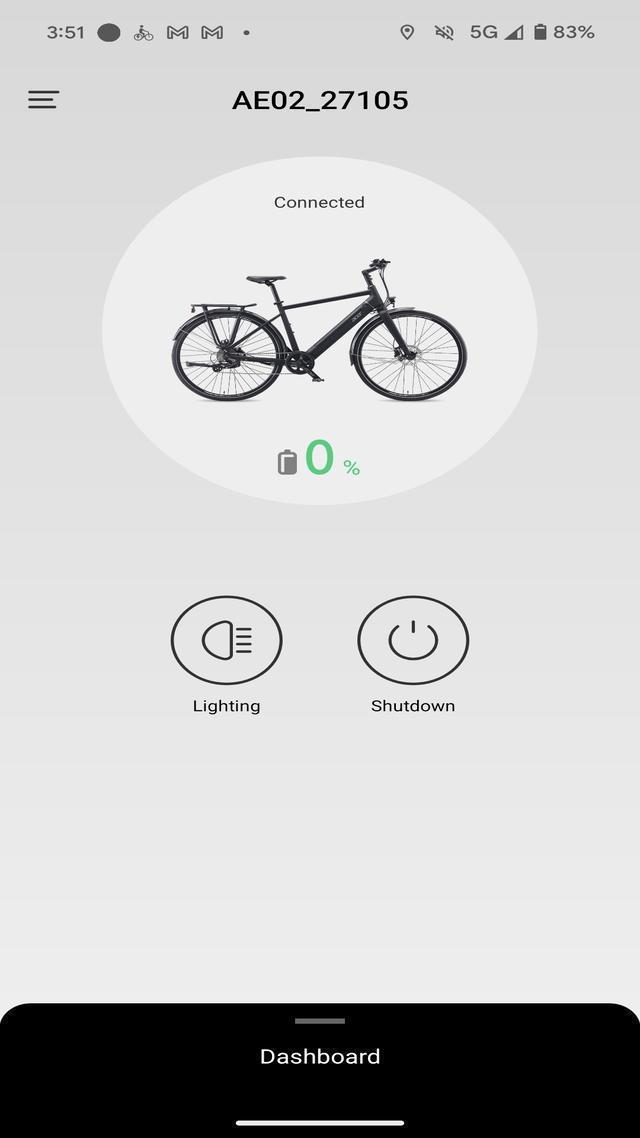Icon: (468, 18, 527, 48), (26, 86, 61, 116), (427, 19, 458, 46), (162, 20, 190, 44), (196, 22, 226, 44), (95, 24, 122, 48), (132, 19, 155, 46), (532, 17, 548, 42), (398, 20, 413, 44), (240, 24, 252, 41)
Image: (148, 250, 482, 413), (356, 592, 472, 688), (168, 594, 284, 686), (276, 447, 300, 482)
Text: (225, 84, 416, 119), (252, 1043, 388, 1074), (266, 187, 372, 218), (304, 434, 366, 482), (364, 691, 460, 719), (185, 694, 268, 718), (551, 18, 599, 46), (43, 19, 86, 44)
TextButton: (1, 1000, 640, 1138), (341, 582, 485, 738), (156, 580, 296, 740)
